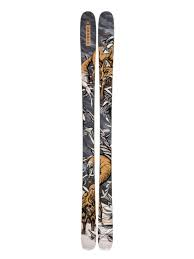skis: (79, 11, 116, 250)
